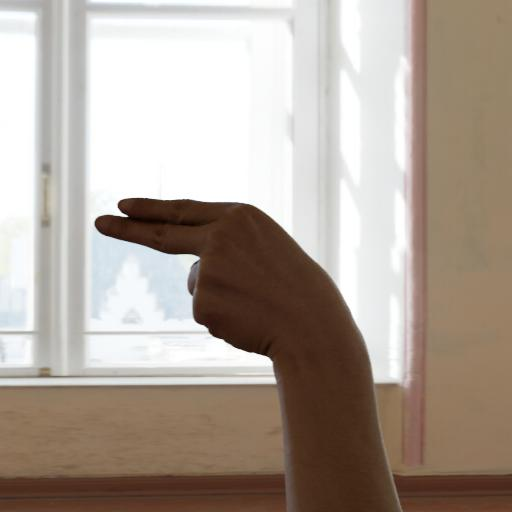H: (82, 170, 388, 409)
